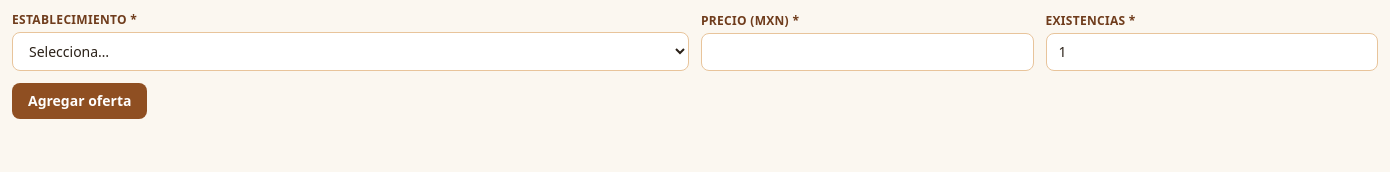
Test: OfferForm › shows a Spanish error for a non-integer stock
Select "Librería Centro" in the dropdown labelled "Establecimiento *" at (350, 52), box [12,32,689,71]
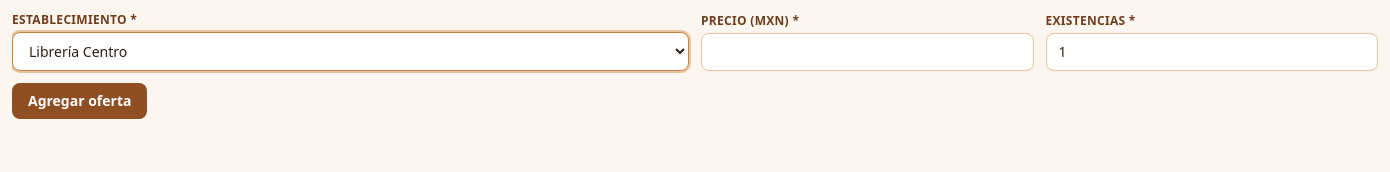
Type "50" into the number field labelled "Precio (MXN) *" at (867, 52), box [701,33,1034,71]
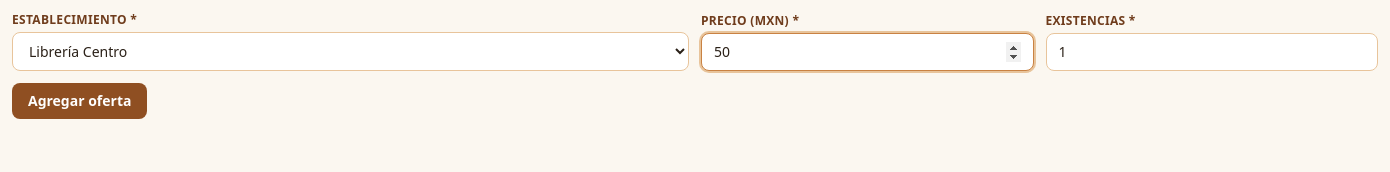
Replace the text in the number field labelled "Existencias *" with "1.5" at (1212, 52), box [1046,33,1378,71]
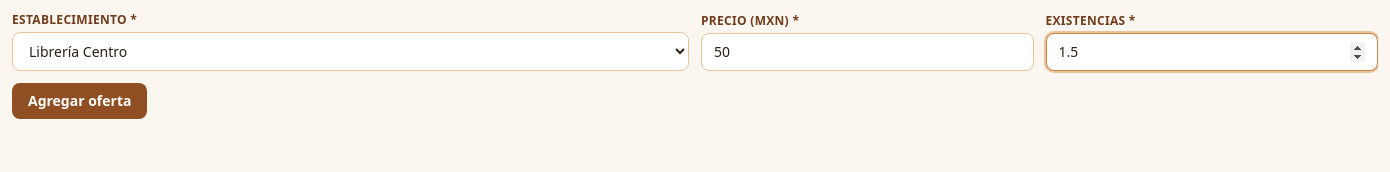
Click the button "Agregar oferta" at (80, 101), box [12,83,147,119]
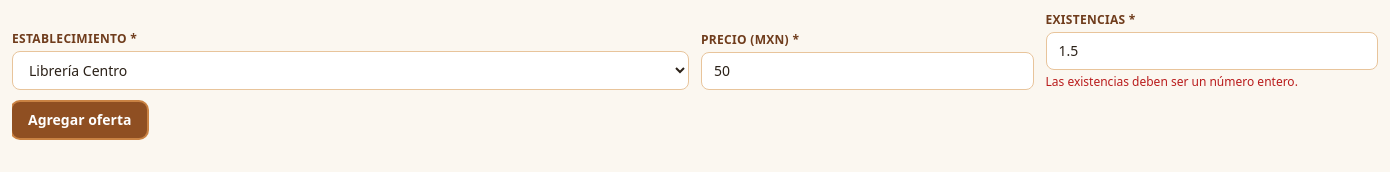
Expected: the message shows "número entero", [1046,73,1298,90]
